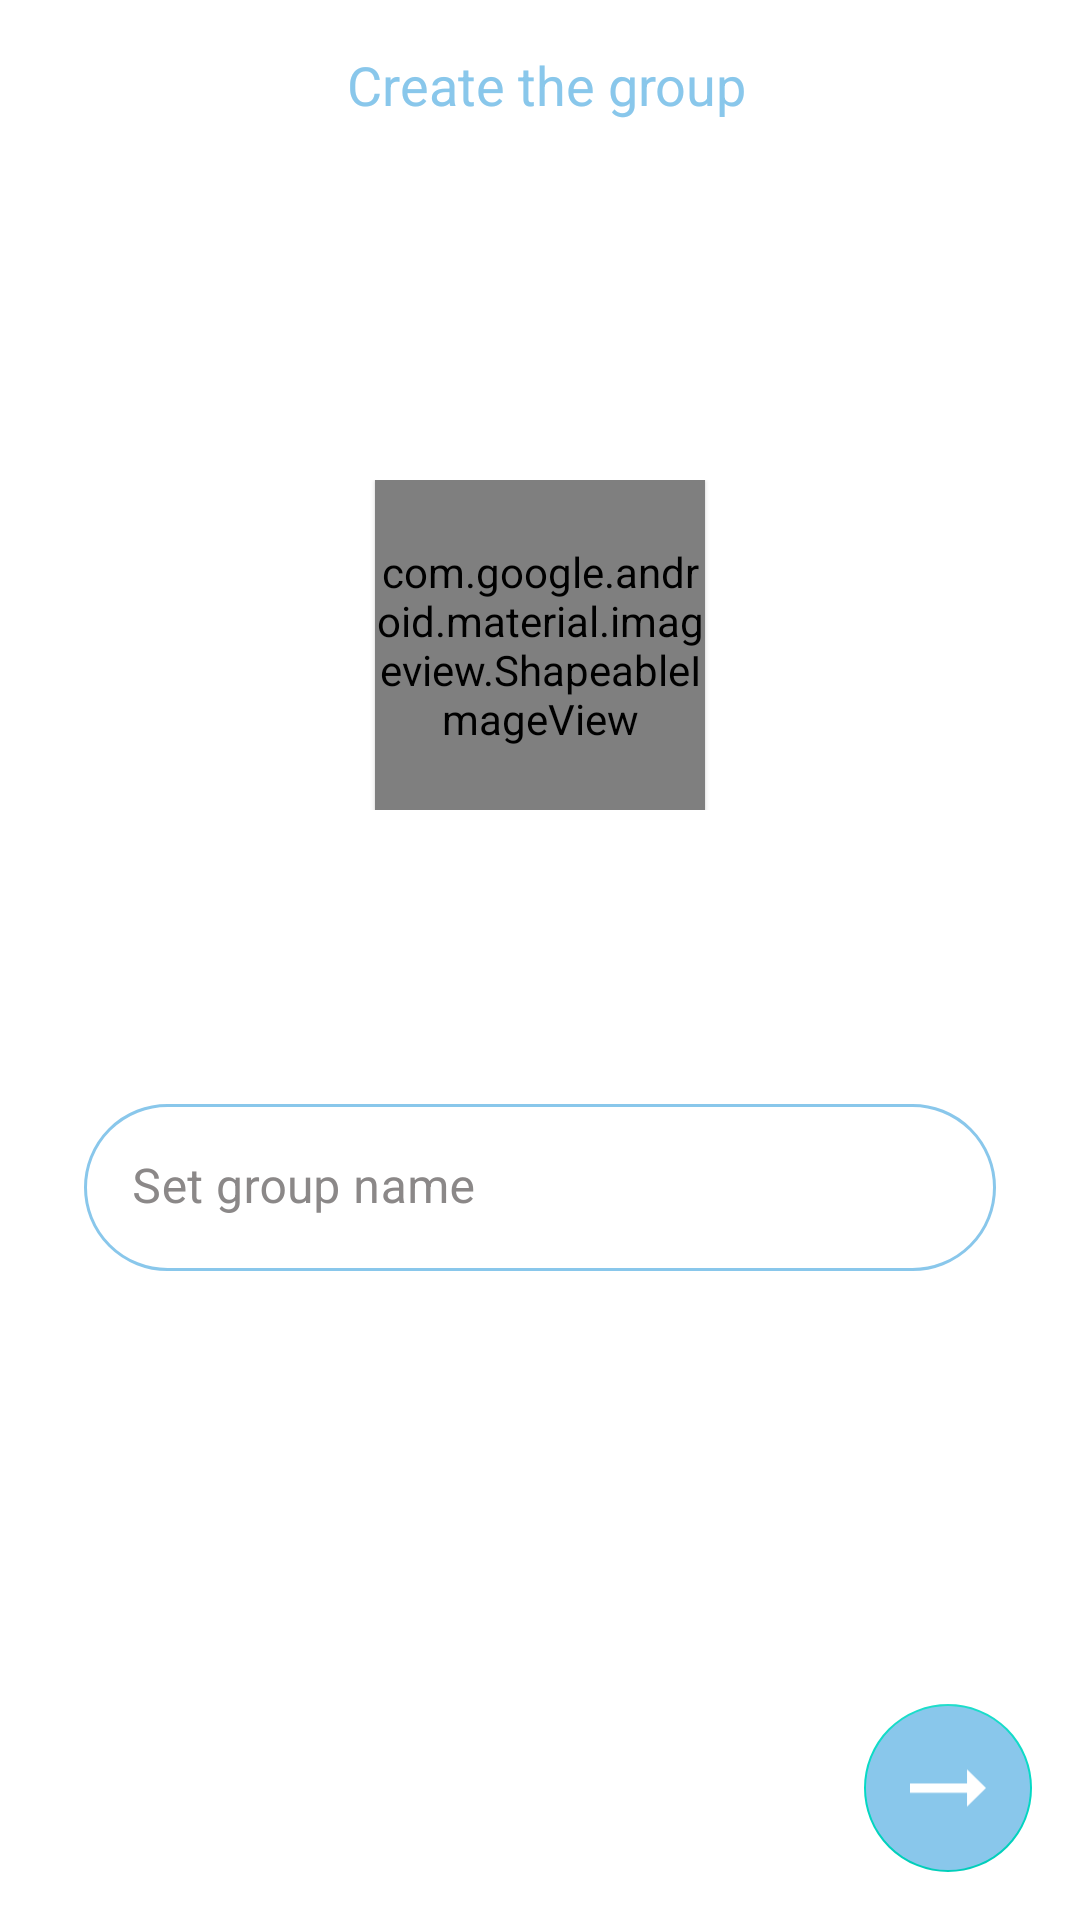

Icons on this 1080 x 1920 Android screen, each with its box as detection(x1, y1, x2, y2):
Next Button: detection(864, 1704, 1032, 1872)
